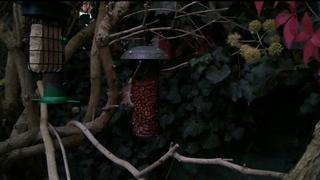mouse: (120, 83, 133, 107)
